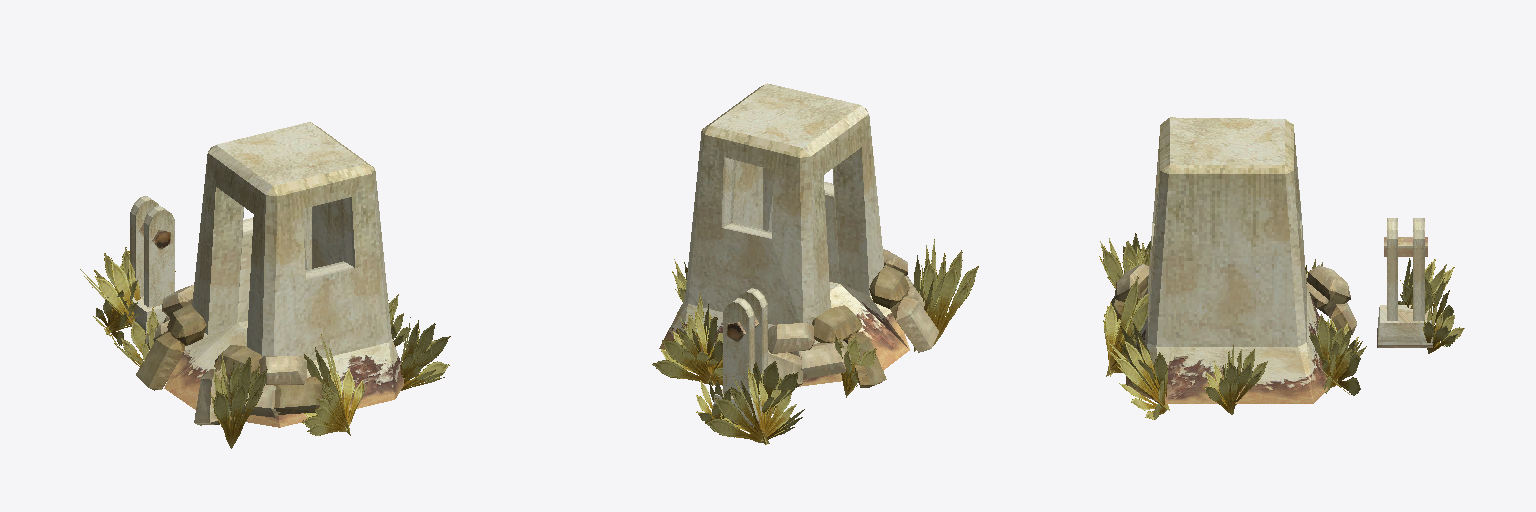
3 views of the same model, side by side, from view 1: azimuth 30°, elevation 25°; view 2: azimuth 150°, elevation 25°; view 3: azimuth 270°, elevation 25° (orthographic).
Visible parts, largest first — view 1: Node 0; view 2: Node 0; view 3: Node 0.
Boxes of the visible parts, box(x1,y1,x2,y2) form: Node 0: box(80, 122, 450, 448); Node 0: box(652, 83, 978, 444); Node 0: box(1099, 117, 1464, 419).
Size of the model in its own units: 7.1 by 5.97 by 8.62.
Materials: 5 (5 with a texture image).